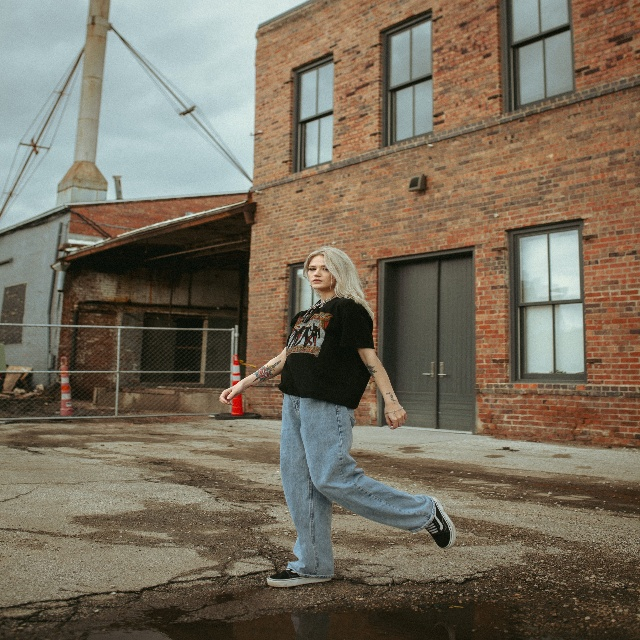Sin_guantes: (384, 400, 407, 431), (219, 382, 242, 407)
